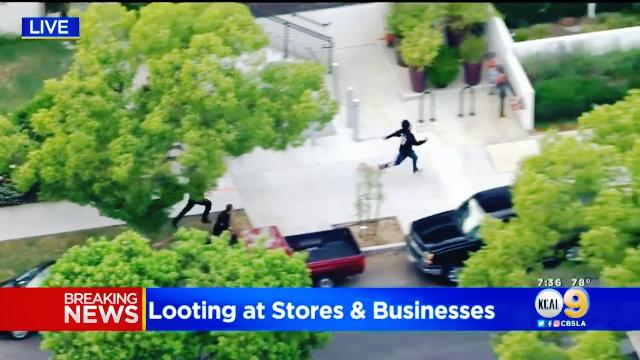berlari: (374, 117, 430, 179)
